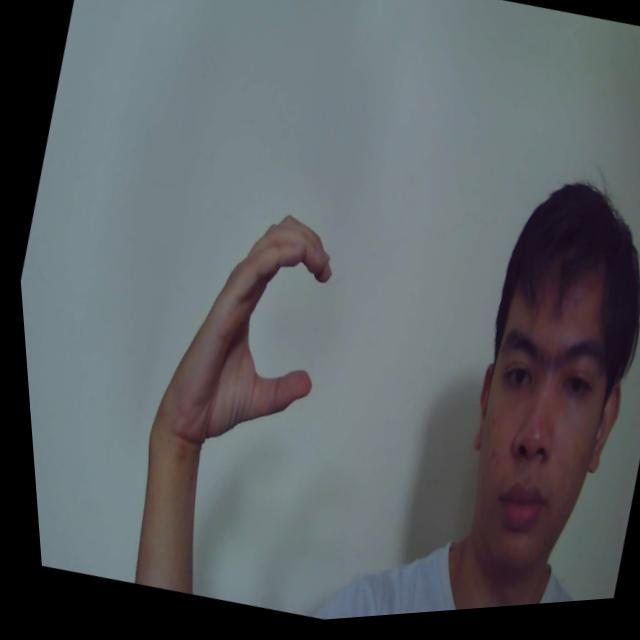C: (130, 189, 354, 476)
